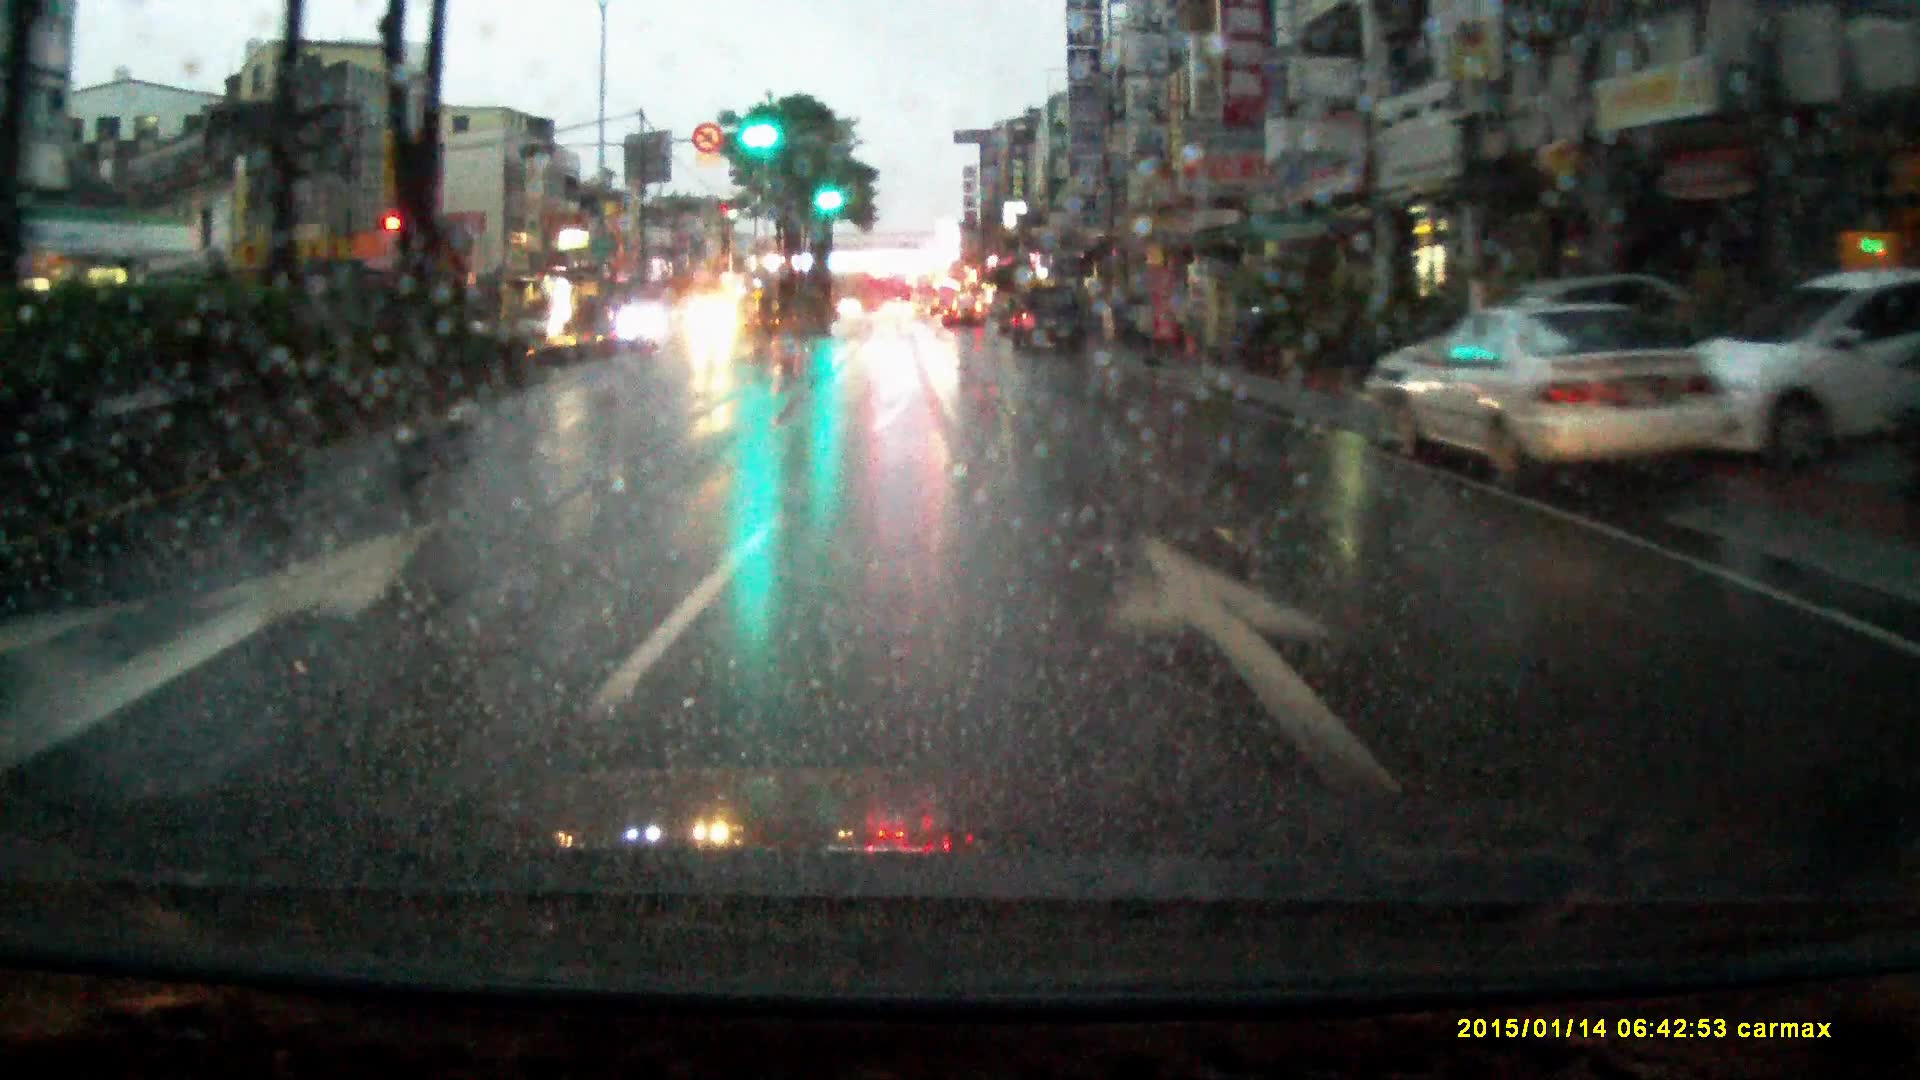vehicle: (1393, 305, 1745, 498), (1700, 272, 1903, 477), (1011, 284, 1092, 357), (679, 299, 746, 351), (615, 305, 669, 347), (913, 273, 943, 320), (943, 295, 984, 330), (882, 301, 918, 323)
